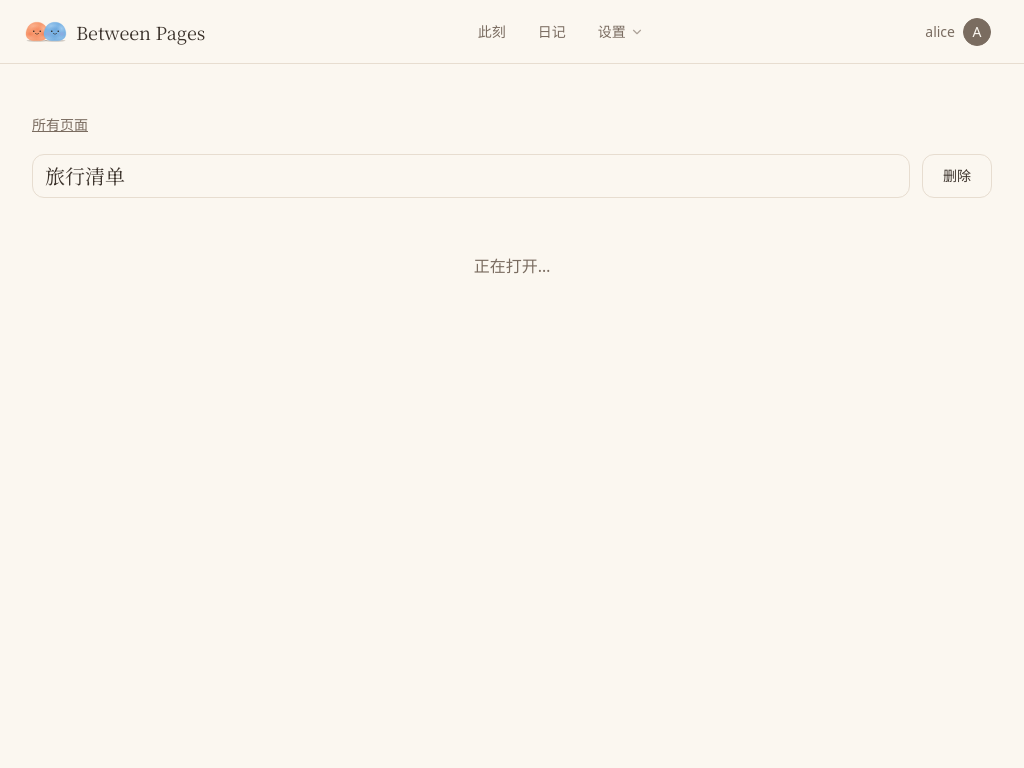
Test case: shared pages › asks the server who wrote in the page before confirming its deletion
Click the button "删除" at (957, 176), box [922,154,992,198]
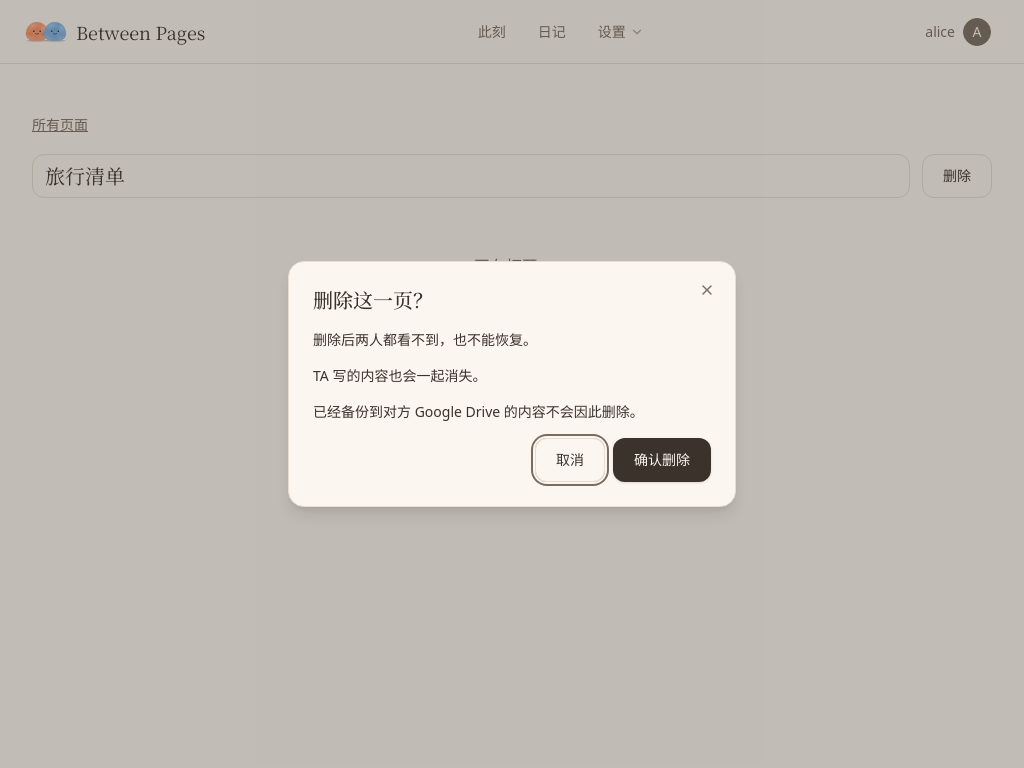
Result: the text "TA 写的内容也会一起消失。" is shown at [313,366,486,385]
Result: the text "已经备份到对方 Google Drive 的内容不会因此删除。" is shown at [313,402,644,421]
Result: the button "确认删除" is enabled at [613,438,711,482]
